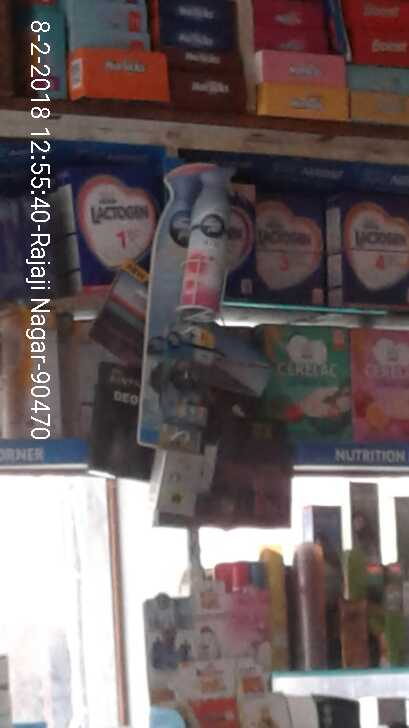home: (183, 164, 233, 315)
